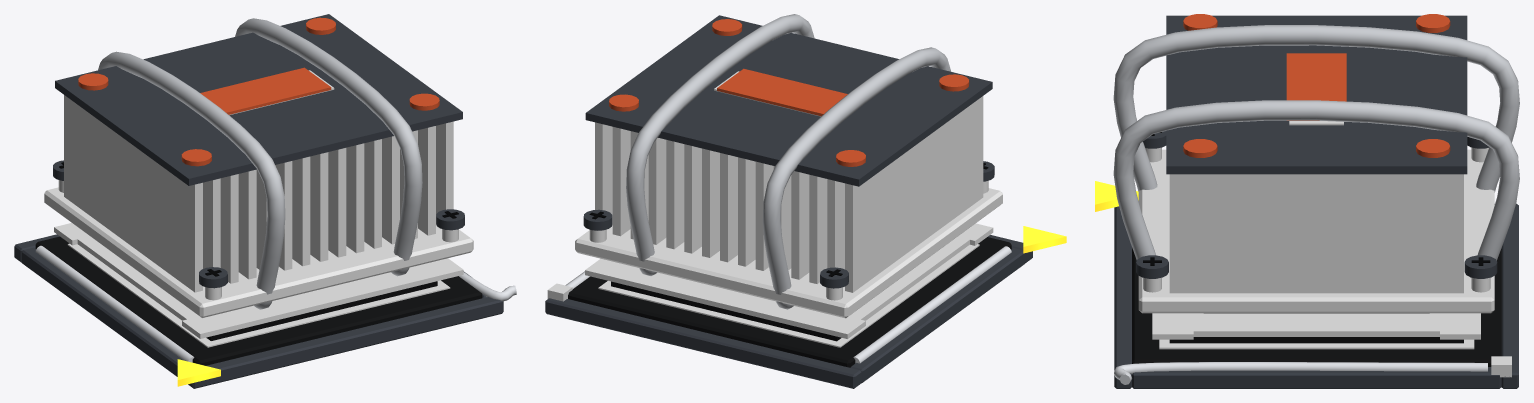
Rendered from hwm_cpu_ryzen5_5600.glb.
3 views of the same model, side by side, from view 1: azimuth 30°, elevation 25°; view 2: azimuth 150°, elevation 25°; view 3: azimuth 270°, elevation 25° (orthographic). The views are drawn at different scales.
Parts seen in each view (by area): view 1: Cooler, Socket, Frame, CPU, Screw_1, Screw_3, Lever; view 2: Cooler, Socket, Frame, CPU, Screw_2, Screw_0; view 3: Cooler, Socket, Frame, Lever, CPU, Screw_2, Screw_3, Screw_1, Screw_0.
Boxes of the visible parts, box(x1,y1,x2,y2) form: Cooler: box(44, 14, 473, 317); Socket: box(14, 234, 503, 388); Frame: box(54, 223, 463, 338); CPU: box(206, 281, 437, 340); Screw_1: box(199, 267, 227, 300); Screw_3: box(436, 209, 464, 242); Lever: box(459, 272, 516, 301); Cooler: box(575, 14, 1002, 318); Socket: box(545, 226, 1066, 388); Frame: box(585, 223, 993, 338); CPU: box(611, 281, 841, 341); Screw_2: box(583, 209, 612, 242); Screw_0: box(820, 267, 848, 300); Cooler: box(1113, 14, 1519, 313); Socket: box(1095, 181, 1518, 388); Frame: box(1152, 313, 1480, 339); Lever: box(1114, 362, 1487, 384); CPU: box(1169, 313, 1463, 343); Screw_2: box(1464, 255, 1497, 292); Screw_3: box(1136, 255, 1168, 292); Screw_1: box(1143, 131, 1166, 162); Screw_0: box(1467, 137, 1489, 162).
Bounding box in the file's own units: 0.1338 × 0.0775 × 0.1241.
